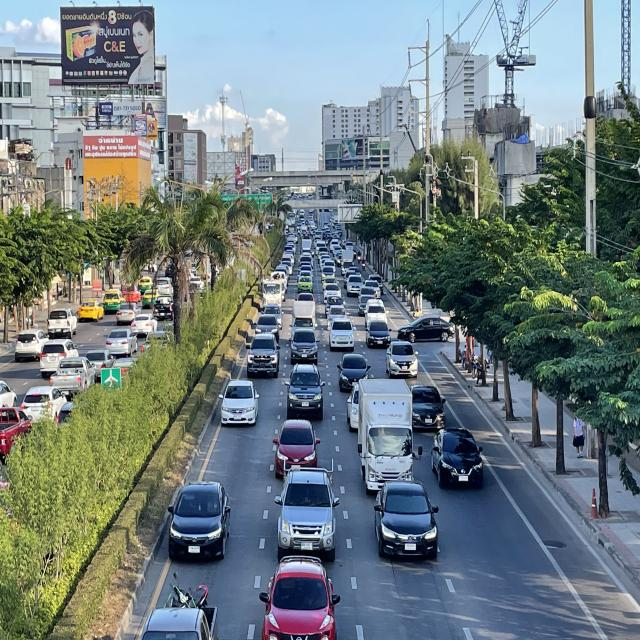car: (260, 553, 340, 640), (373, 479, 441, 565), (167, 478, 233, 564), (430, 426, 486, 488), (272, 419, 322, 479), (286, 363, 324, 421), (219, 380, 260, 428), (408, 384, 446, 429), (338, 352, 371, 389), (290, 328, 320, 366)
truck: (357, 377, 418, 496), (276, 458, 340, 560), (291, 300, 317, 340), (261, 274, 283, 310)
